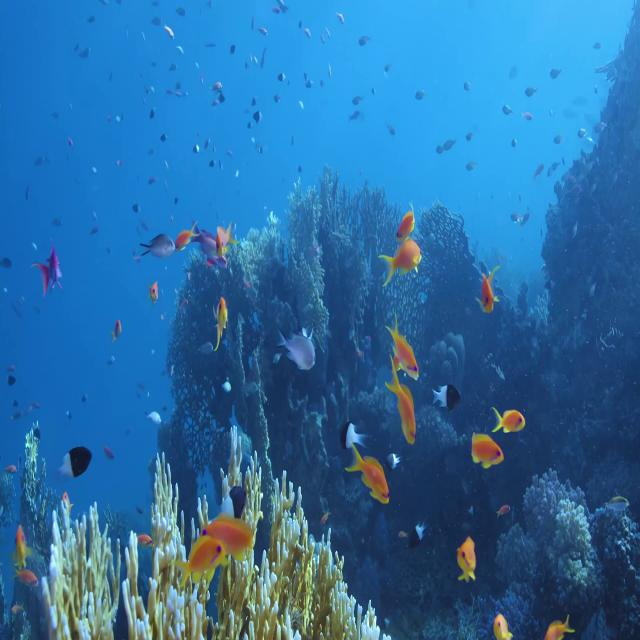fish: (345, 437, 393, 517), (198, 503, 258, 562), (385, 358, 423, 448), (376, 316, 422, 383), (275, 319, 320, 382), (175, 540, 223, 594), (31, 236, 68, 304), (134, 224, 184, 272), (473, 253, 503, 329), (459, 418, 500, 470), (204, 289, 237, 353), (381, 227, 422, 276), (57, 434, 95, 483), (335, 405, 369, 458), (395, 506, 428, 558), (488, 387, 524, 433), (212, 218, 242, 267), (432, 360, 459, 410), (15, 513, 37, 568), (456, 534, 480, 584), (391, 198, 418, 238), (543, 608, 573, 639), (490, 602, 514, 640), (12, 564, 44, 590), (147, 274, 164, 310)
